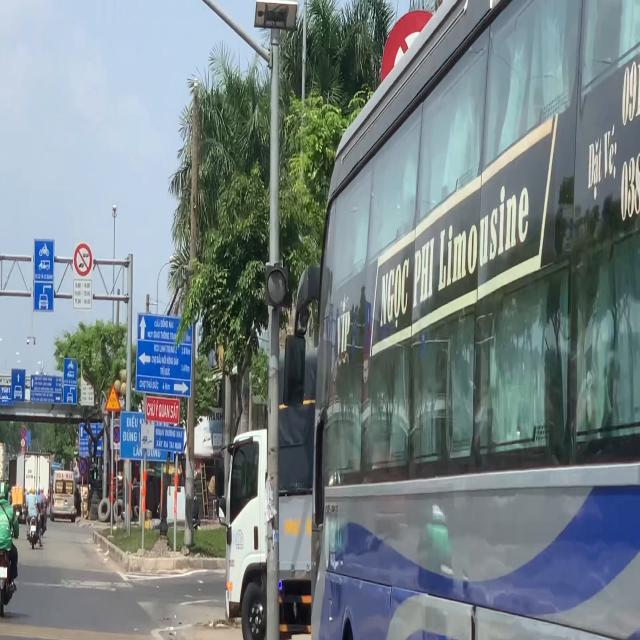Cam dung va do: (78, 457, 88, 476), (112, 426, 122, 444), (21, 427, 26, 438)
Nguy hiem: (104, 382, 122, 412)
